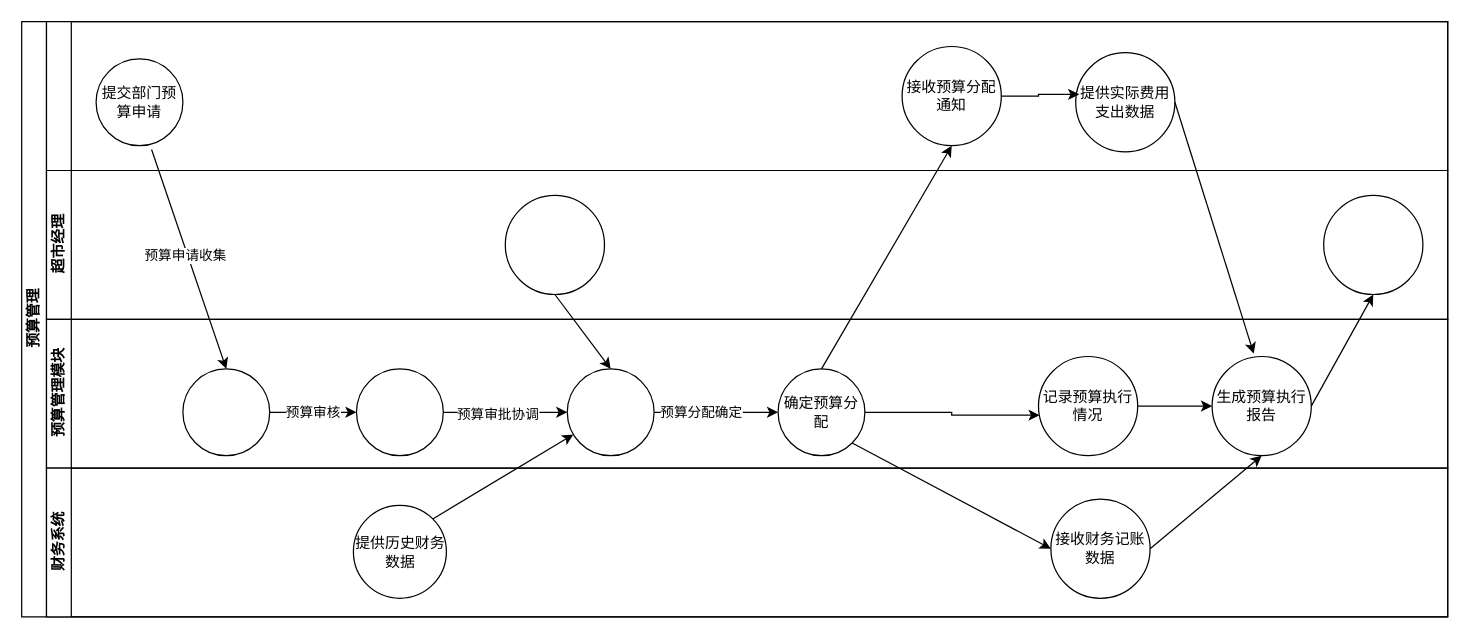
This 1469x639 diagram has some shape labels left out. The box of each missing label's shape, as (x1, y1, x2, y2) in pixels:
与经理交互获取审批结果: (566, 368, 654, 456)
各部门负责人: (45, 20, 1448, 170)
审批预算申请，提出修改意见: (504, 194, 604, 294)
审核预算申请: (355, 368, 443, 456)
查看预算执行报告: (1322, 194, 1423, 294)
汇总预算申请: (182, 368, 270, 456)
